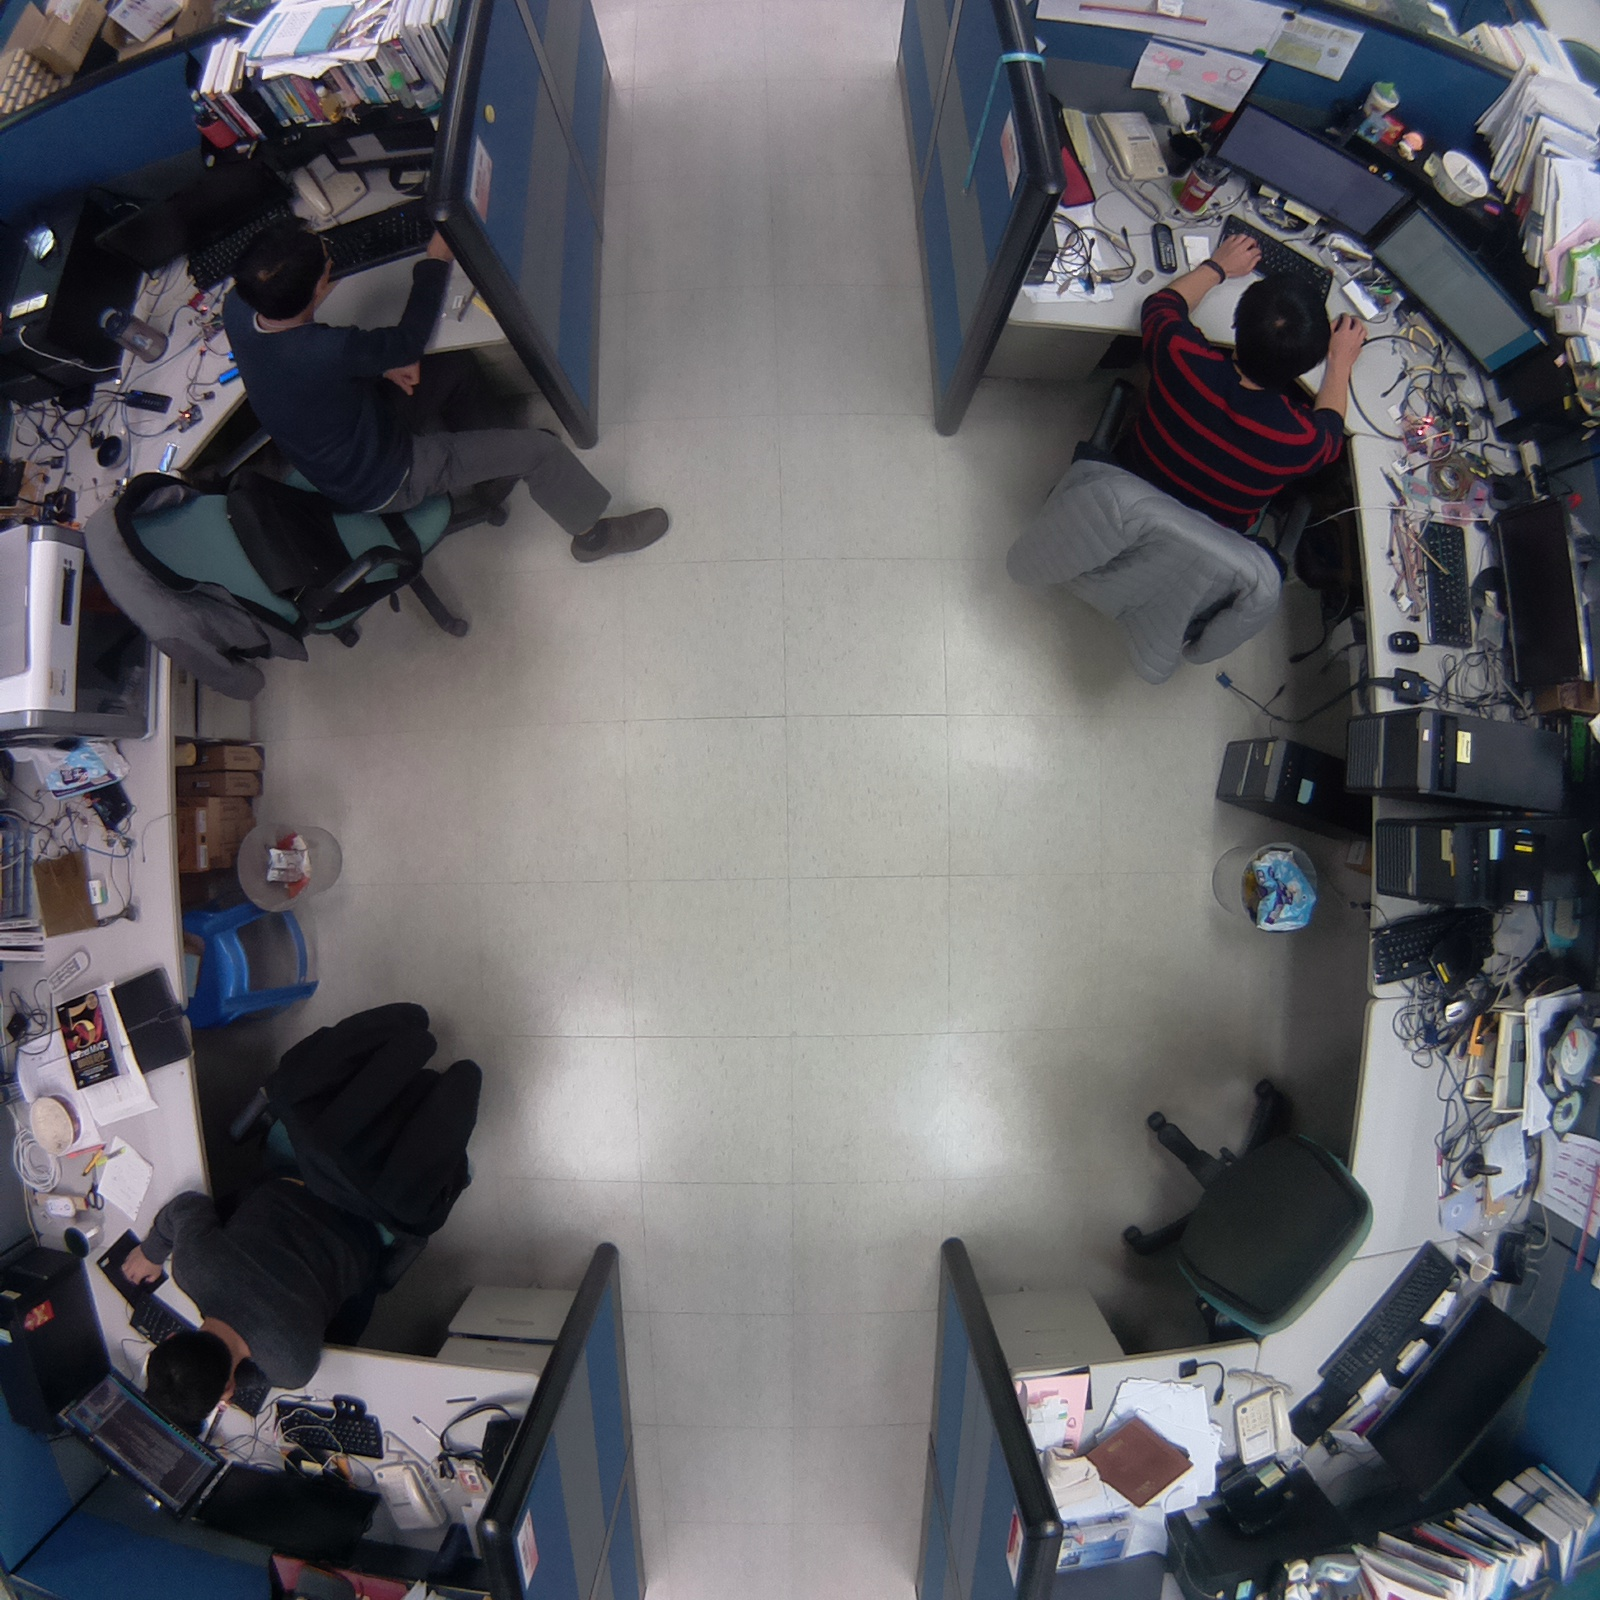chair: (1088, 1052, 1381, 1358)
head: (227, 212, 344, 327), (1223, 270, 1340, 382), (136, 1319, 240, 1440)
sitting: (76, 211, 681, 711), (104, 978, 506, 1437), (986, 232, 1372, 696)
